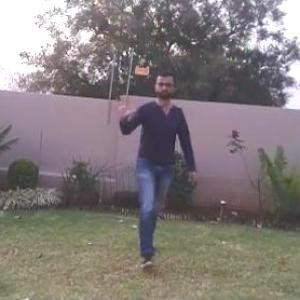follow_hand: (113, 90, 136, 120)
